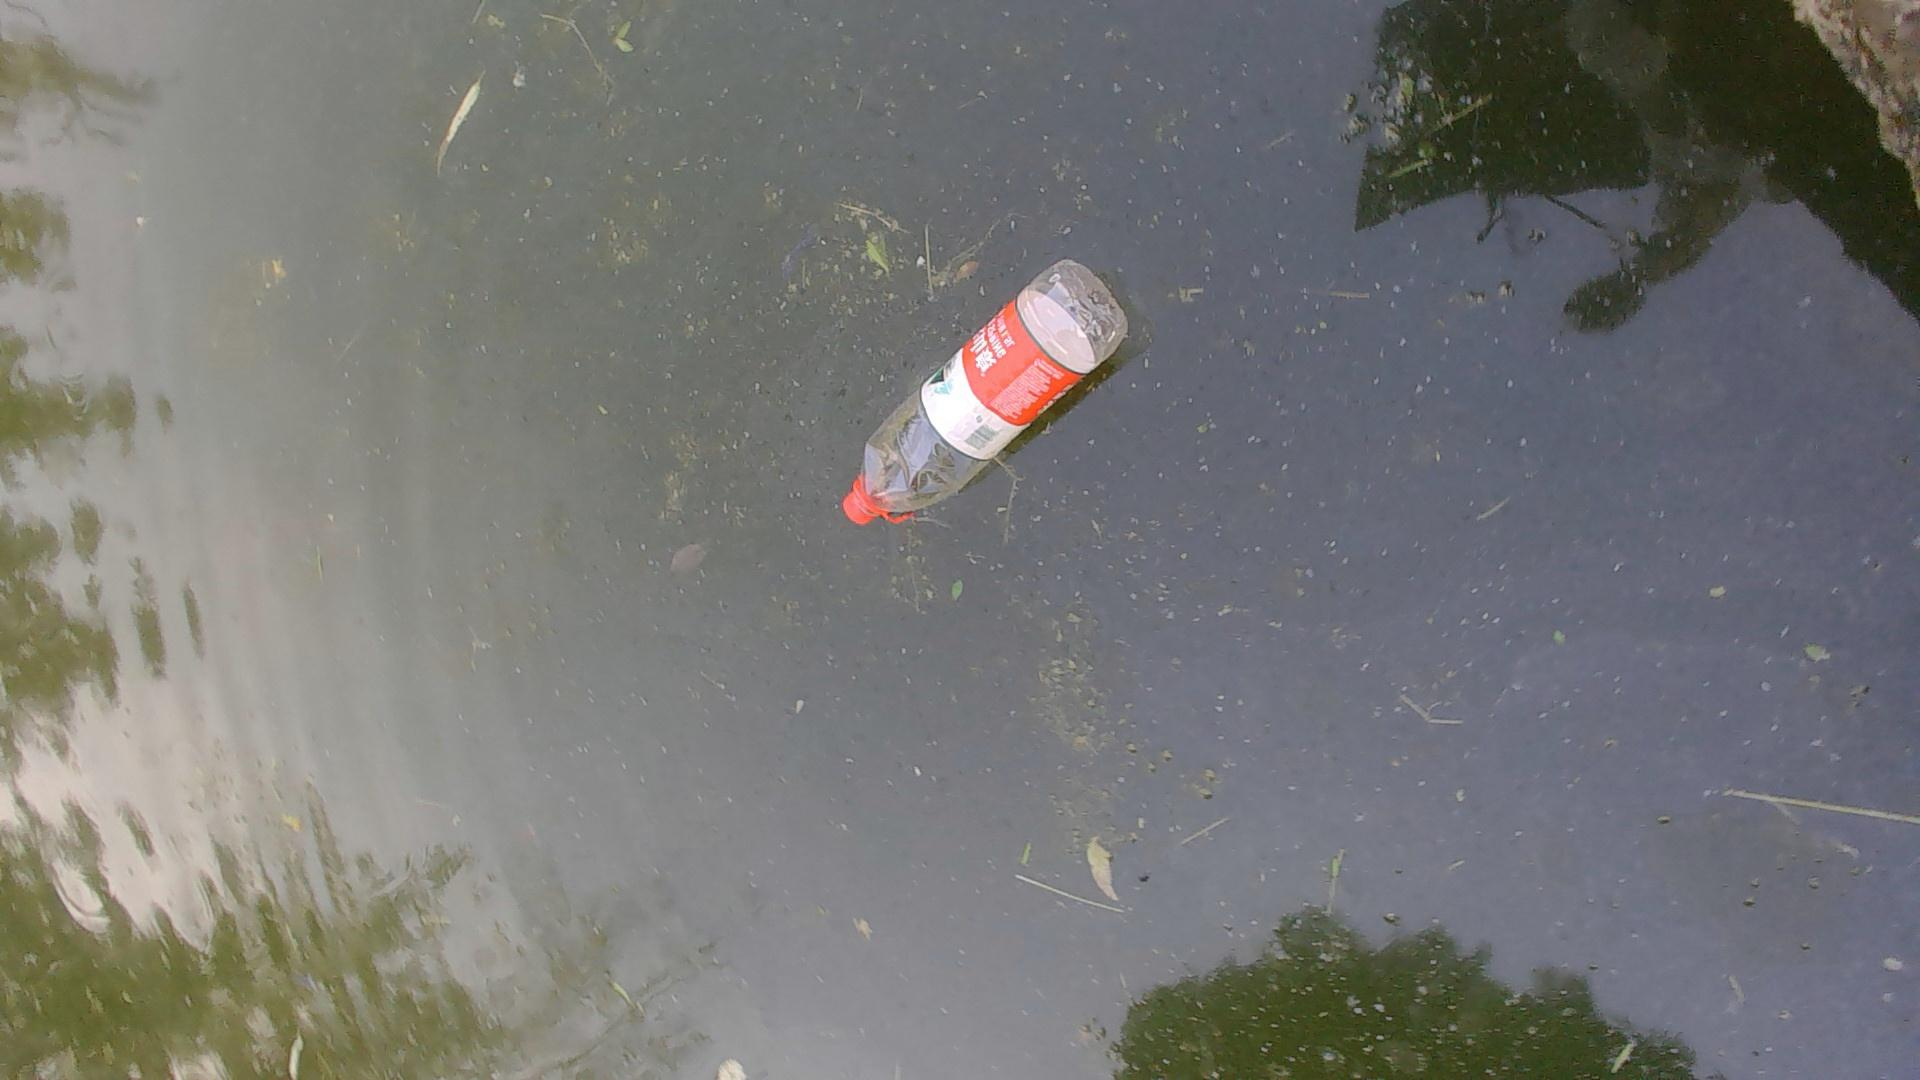Plastic: (839, 251, 1142, 531)
